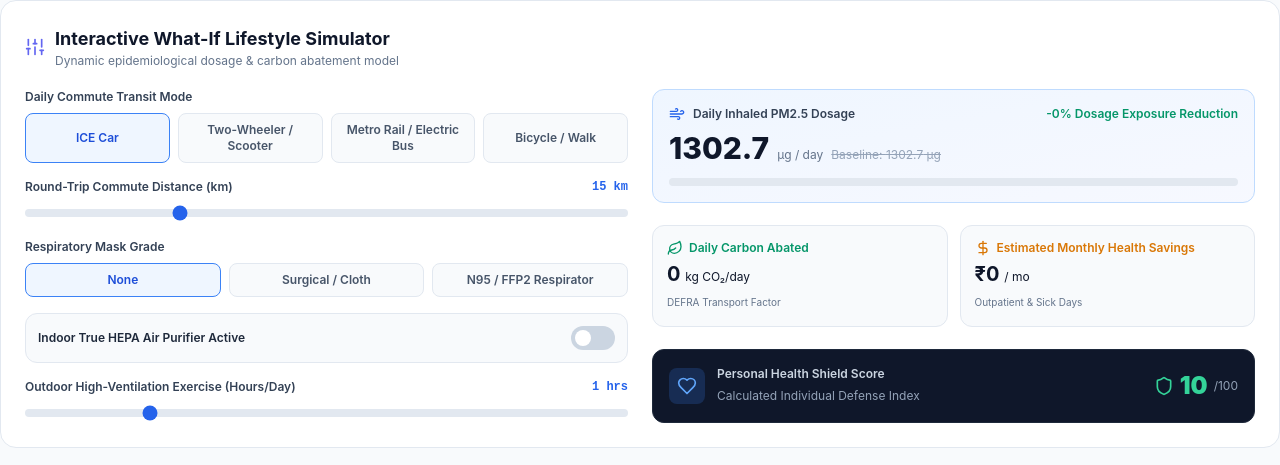
Test: WhatIfSimulator Interactions & State Transitions › adjusts commute distance slider
The width and height of the screenshot is (1280, 465).
Set the slider labelled "Round-Trip Commute Distance (km)" to "35": (375, 213) [25,209,628,217]
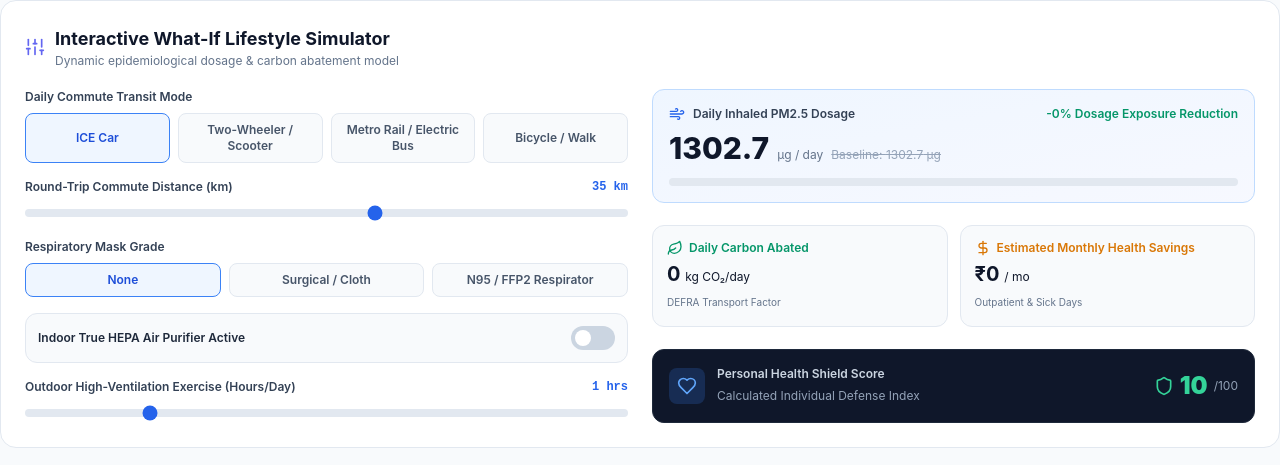
Result: the text "35 km" is shown at [592,179,628,195]
